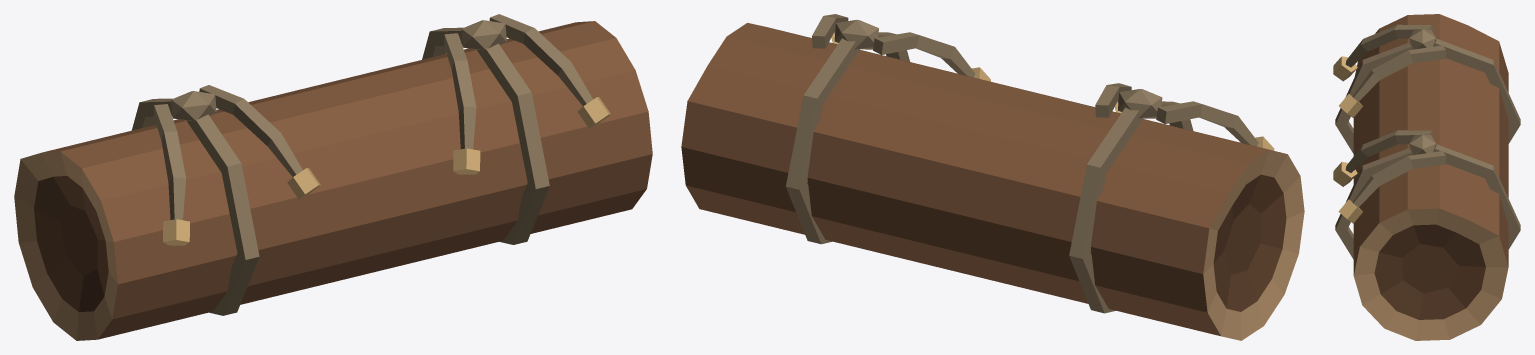
File: it-leather.glb
3 renders of one model, left to right at view 1: azimuth 30°, elevation 25°; view 2: azimuth 150°, elevation 25°; view 3: azimuth 270°, elevation 25°, orthographic. The views are drawn at different scales.
Parts seen in each view (by area): view 1: roll, cord_r, cord_l, cord_tail_rb, cord_tail_lb, cord_tail_ra, cord_tail_la, knot_l, knot_r, bead_ra, bead_la, bead_lb (+1 smaller); view 2: roll, cord_r, cord_l, cord_tail_la, cord_tail_ra, knot_r, knot_l, cord_tail_lb, cord_tail_rb; view 3: roll, cord_l, cord_r, cord_tail_rb, cord_tail_lb, cord_tail_ra, cord_tail_la, knot_l, knot_r, bead_la, bead_ra, bead_rb (+1 smaller).
Boxes of the visible parts, x1,y1,x2,y2 form: roll: (14,21,652,340); cord_r: (422,27,549,244); cord_l: (132,98,259,315); cord_tail_rb: (489,14,593,106); cord_tail_lb: (199,85,302,176); cord_tail_ra: (444,33,476,149); cord_tail_la: (154,104,185,220); knot_l: (171,91,216,121); knot_r: (461,20,506,50); bead_ra: (453,148,480,174); bead_la: (163,219,189,245); bead_lb: (287,168,320,199); roll: (681,23,1304,340); cord_r: (786,32,909,244); cord_l: (1069,101,1193,313); cord_tail_la: (1156,101,1258,146); cord_tail_ra: (873,32,975,77); knot_r: (834,19,878,49); knot_l: (1118,89,1162,118); cord_tail_lb: (1095,83,1131,117); cord_tail_rb: (812,14,848,48); roll: (1353,14,1508,340); cord_l: (1335,38,1520,153); cord_r: (1335,144,1520,259); cord_tail_rb: (1352,151,1445,207); cord_tail_lb: (1352,45,1445,101); cord_tail_ra: (1345,130,1433,172); cord_tail_la: (1345,24,1433,67); knot_l: (1409,29,1436,49); knot_r: (1409,135,1436,155); bead_la: (1333,56,1357,81); bead_ra: (1333,162,1357,186); bead_rb: (1338,199,1362,223).
Size of what is drawn, in the model's own units: 0.35 by 0.1355 by 0.1426.
